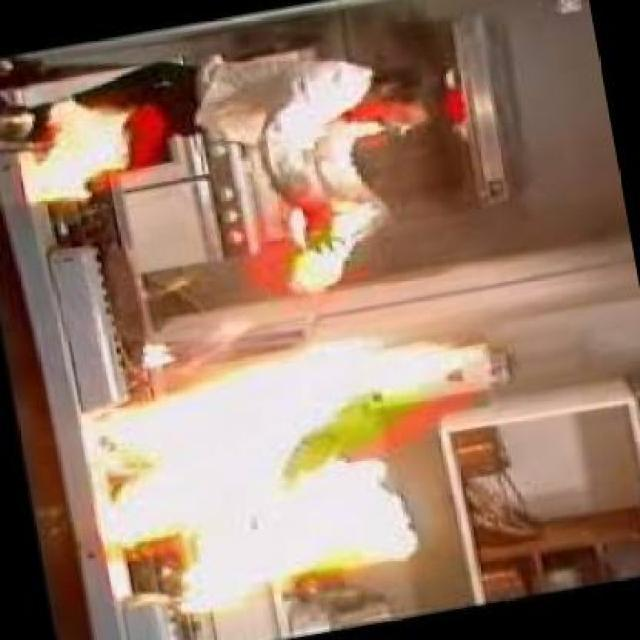Fire: (71, 346, 446, 604), (17, 78, 148, 220)
